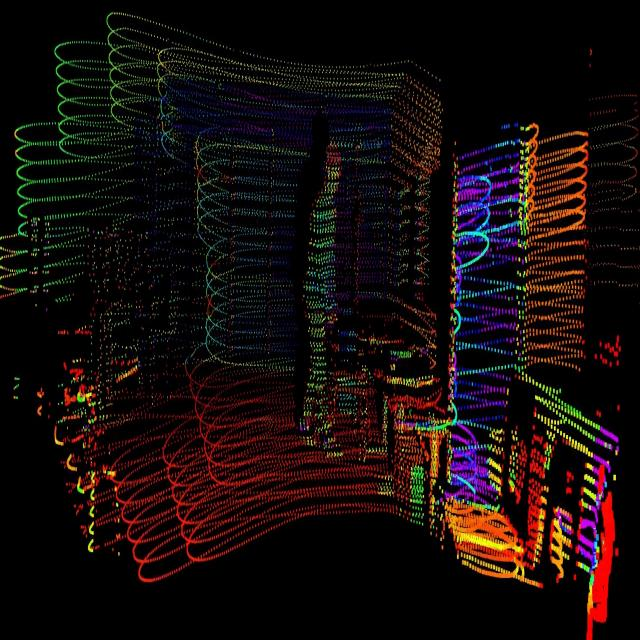human: (300, 124, 354, 462)
